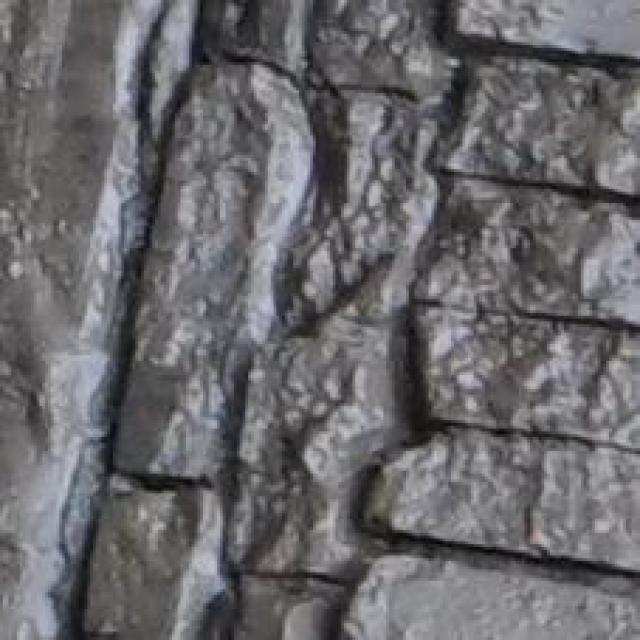Crack: (67, 0, 601, 640)
